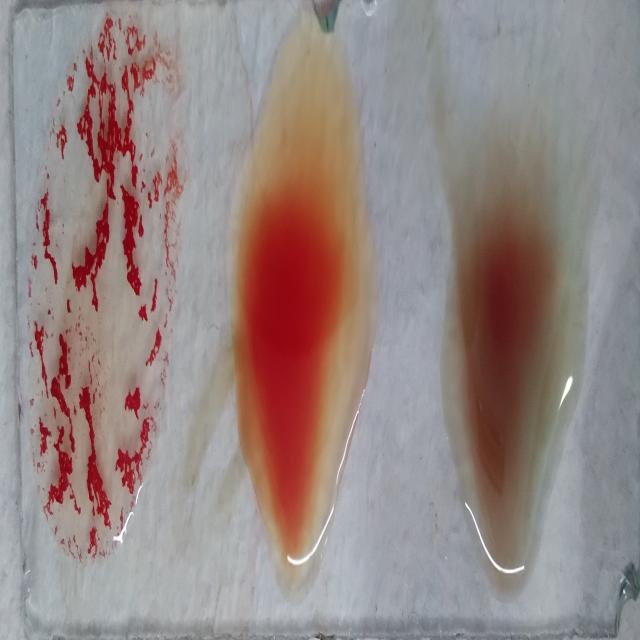D: (24, 5, 172, 569)
